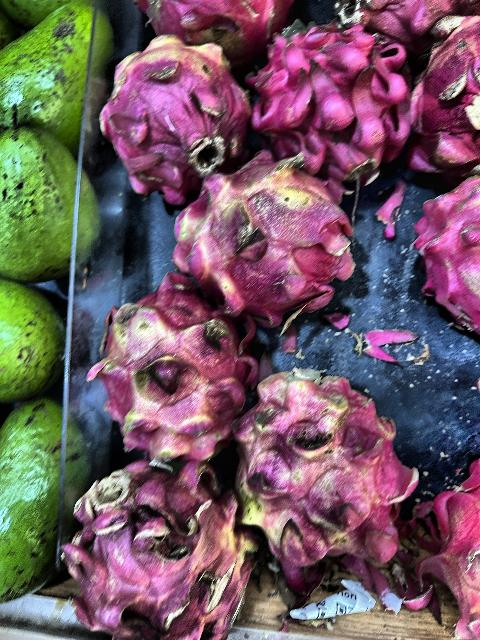buah-naga-belum-matang: (229, 358, 408, 574), (69, 448, 245, 632), (170, 156, 364, 318), (89, 278, 239, 448), (98, 33, 253, 183), (408, 17, 480, 163)
buah-naga-matang: (256, 17, 400, 180), (420, 173, 480, 314), (136, 1, 289, 44)
